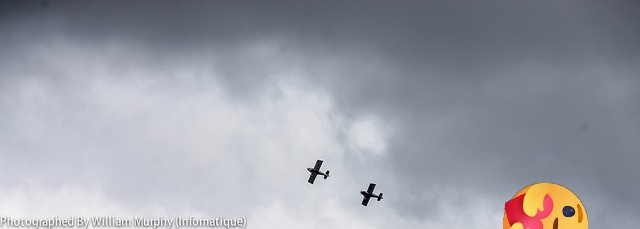care: (503, 183, 588, 229)
